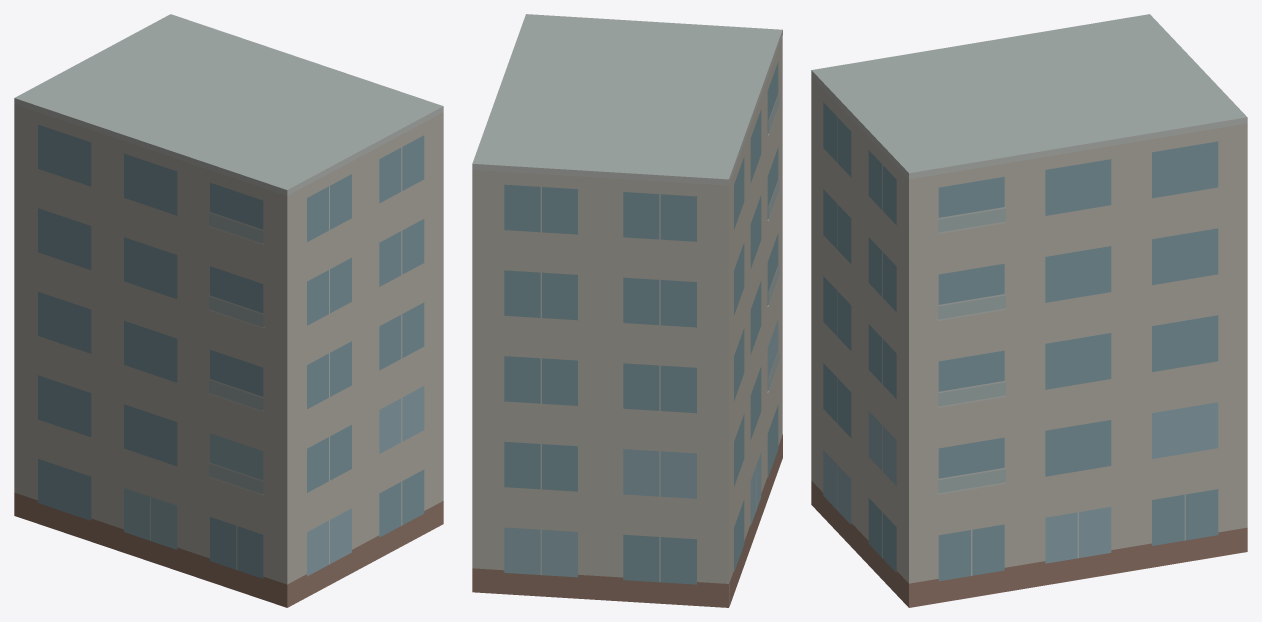
The model's file is survey-upis-32853904.glb.
3 views of the same model, side by side, from view 1: azimuth 30°, elevation 25°; view 2: azimuth 150°, elevation 25°; view 3: azimuth 270°, elevation 25° (orthographic). The views are drawn at different scales.
Visible parts, largest first — view 1: survey-upis-32853904.tmp; view 2: survey-upis-32853904.tmp; view 3: survey-upis-32853904.tmp.
Boxes of the visible parts, x1,y1,x2,y2 form: survey-upis-32853904.tmp: (14, 14, 443, 607); survey-upis-32853904.tmp: (472, 14, 782, 607); survey-upis-32853904.tmp: (811, 14, 1247, 607).
Bounding box in the file's own units: 13.51 × 17.18 × 15.63.
